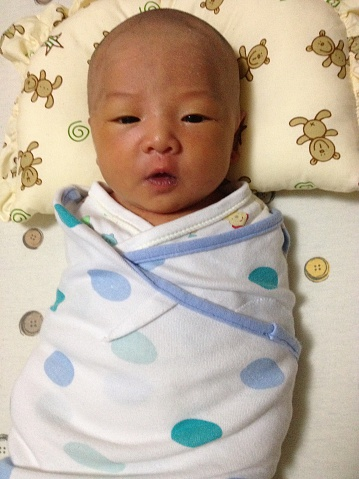deitado: (0, 1, 322, 468)
